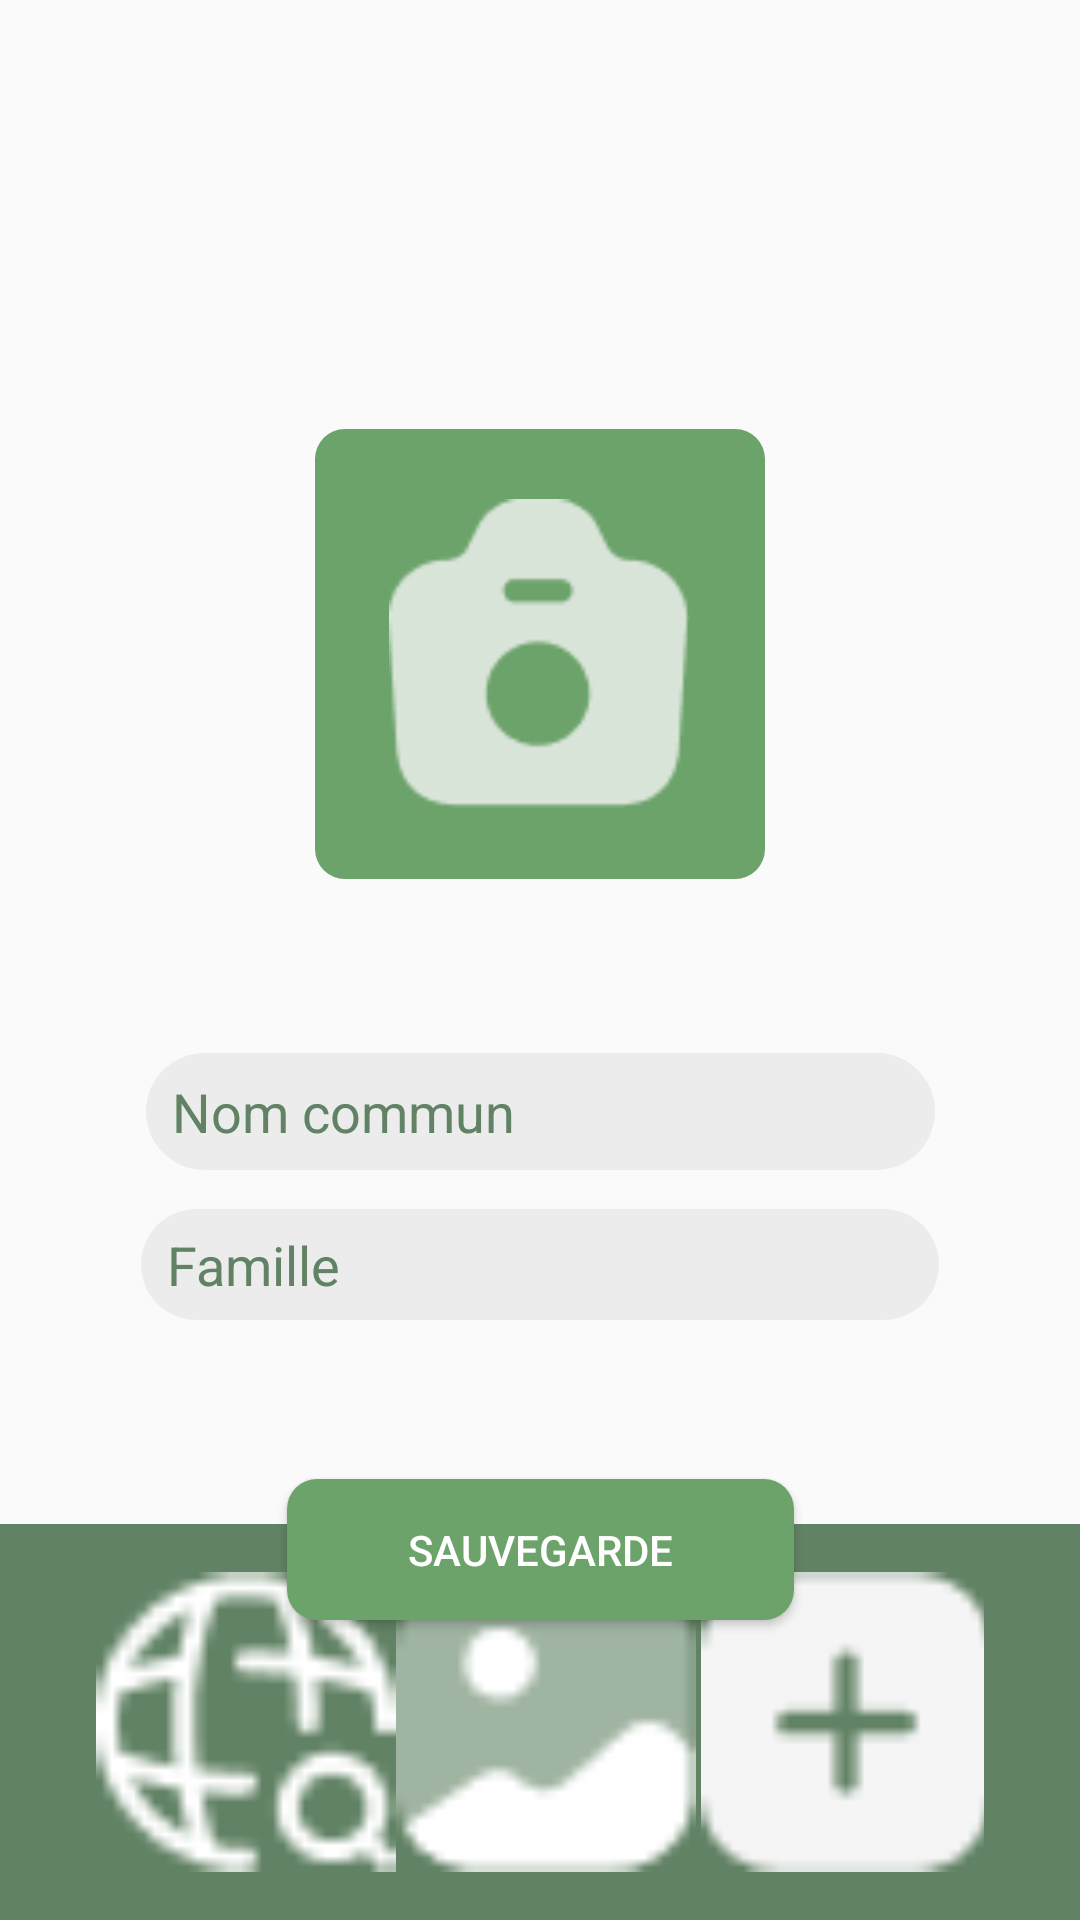

Icons on this 1080*1920 Android screen, each with the point to tap as (x=x, y=y):
add square: (x=840, y=1722)
camera: (x=538, y=652)
gallery: (x=546, y=1722)
global search: (x=246, y=1722)
